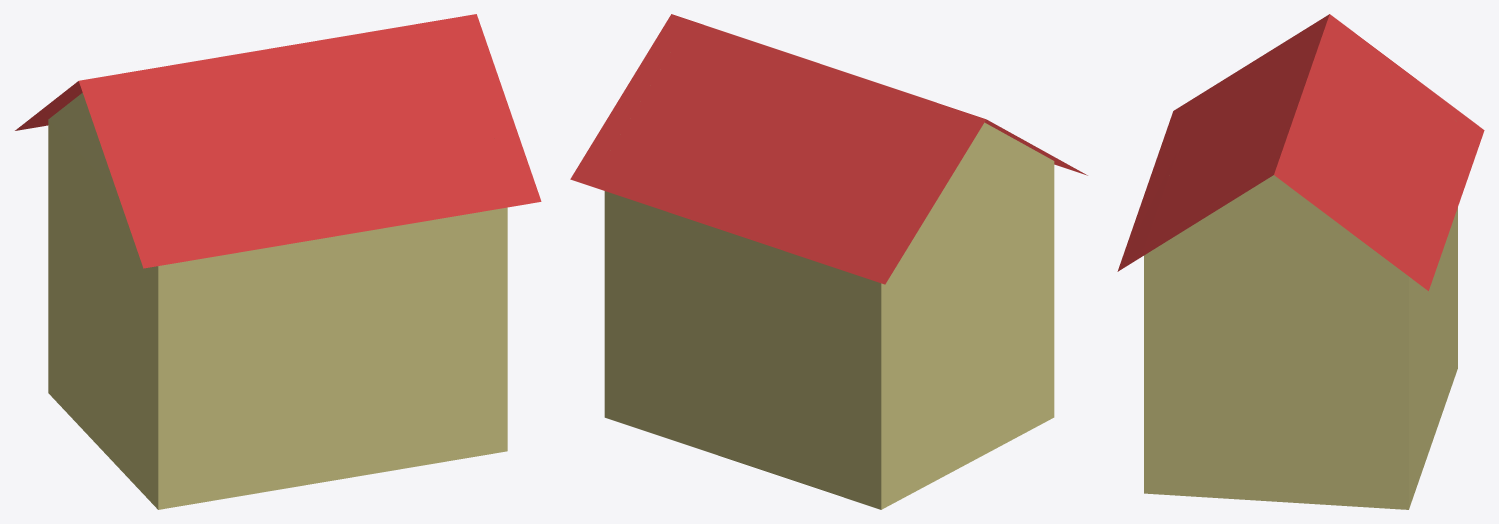
3 views of the same model, side by side, from view 1: azimuth 30°, elevation 25°; view 2: azimuth 150°, elevation 25°; view 3: azimuth 270°, elevation 25° (orthographic). The views are drawn at different scales.
Size of the model in its own units: 13.62 by 11.72 by 11.86.
